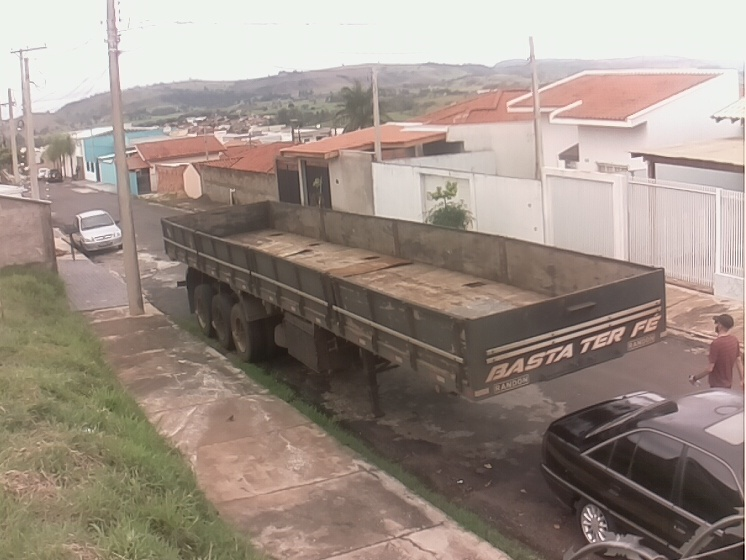person: (687, 314, 746, 395)
